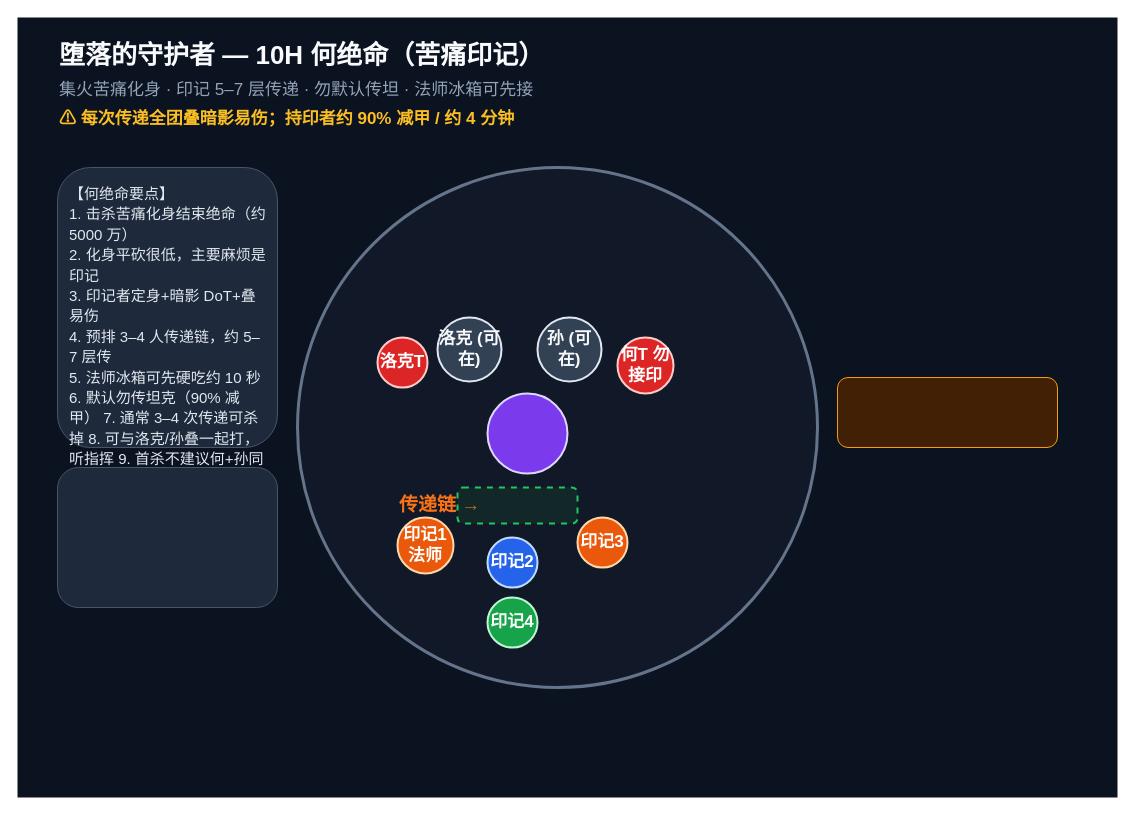
This 1134x814 diagram has some shape labels left out. The centre of each missing label's shape, as x and y in pixels:
【传递示例】 法师(冰箱) → 指定DPS → 指定DPS → … 约 5–7 层开减伤再传 禁止无脑来回丢: the point at 167,537
苦痛化身 集火: the point at 527,433
近战/远程 打化身: the point at 517,505
额外动作按钮传递 宏：/tar 指定 → EAB: the point at 947,412
